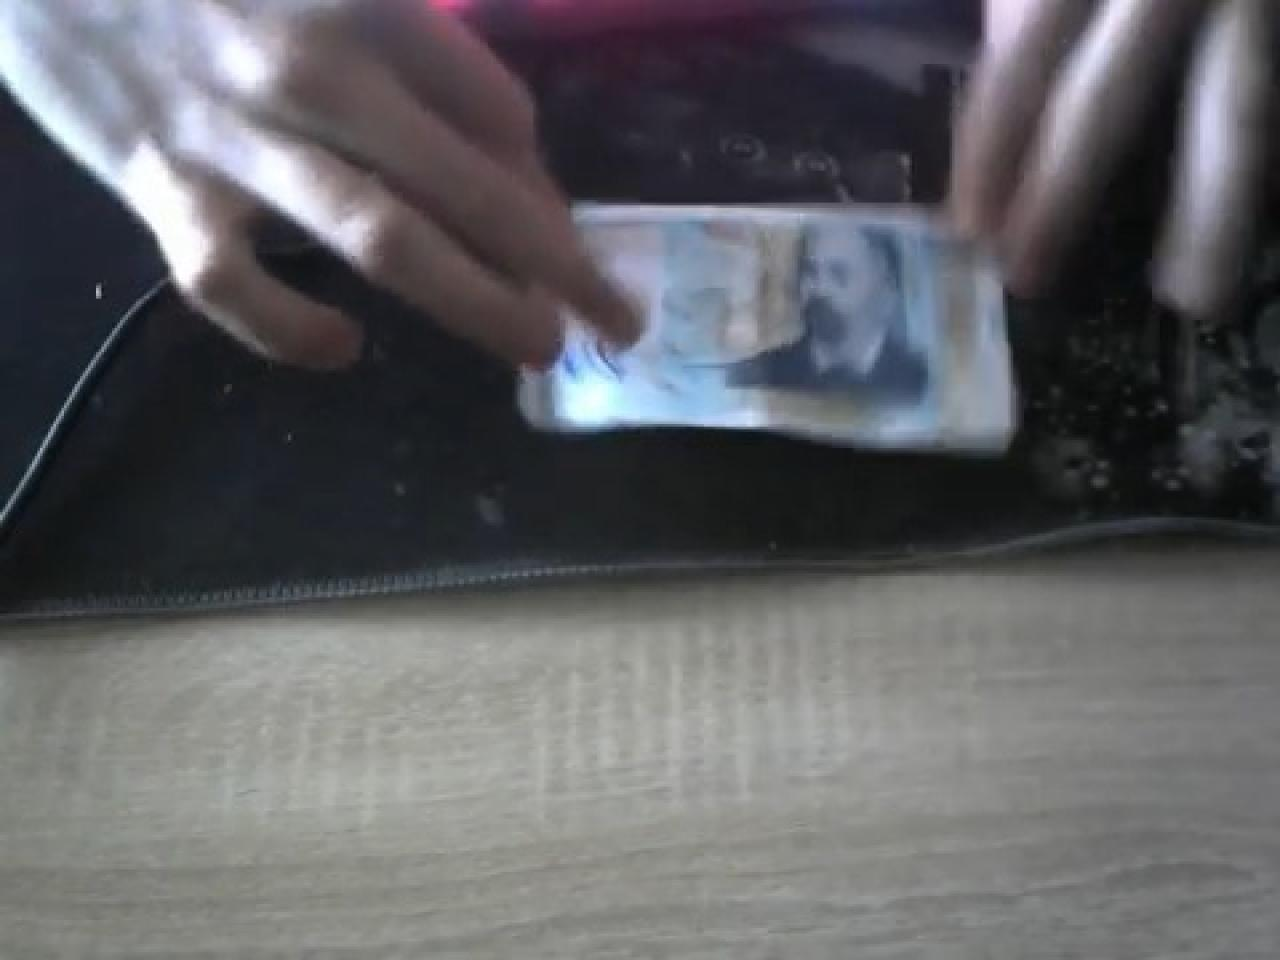20leva: (523, 198, 1021, 467)
